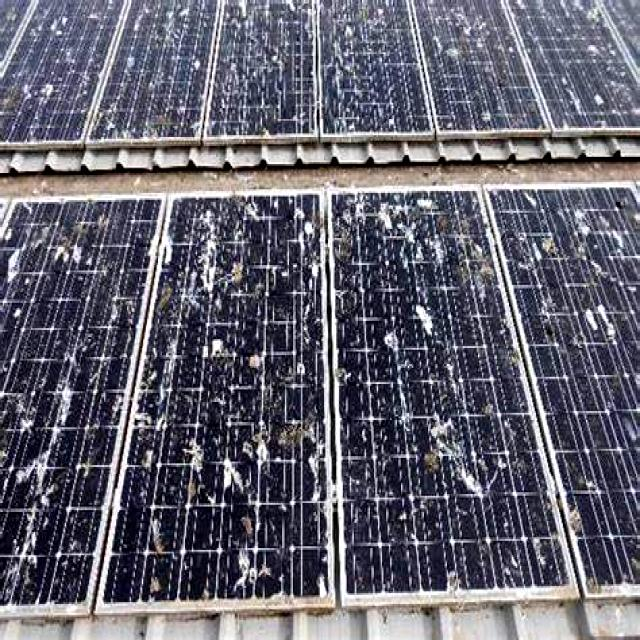bird: (427, 416, 511, 518), (192, 212, 246, 314), (206, 426, 276, 496), (0, 519, 56, 604), (381, 194, 447, 257), (236, 528, 284, 602), (10, 447, 68, 496), (407, 284, 446, 352), (44, 220, 92, 268), (368, 292, 406, 352), (580, 284, 620, 340), (137, 498, 173, 553), (211, 327, 236, 385), (580, 469, 616, 509), (248, 342, 274, 388), (529, 308, 562, 336)
